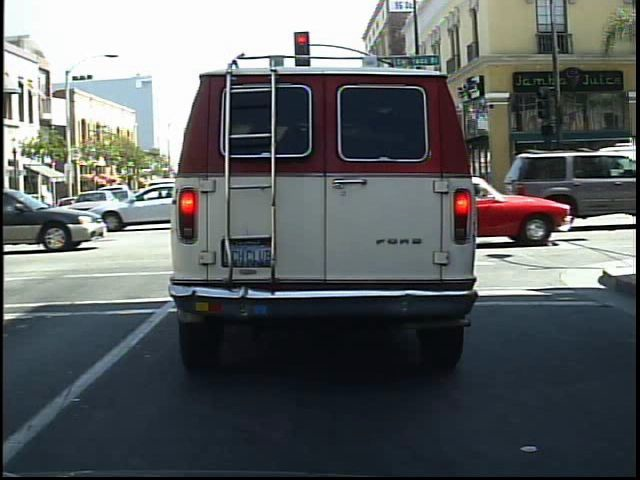person: (595, 142, 619, 209), (538, 151, 562, 209), (513, 156, 535, 207)
